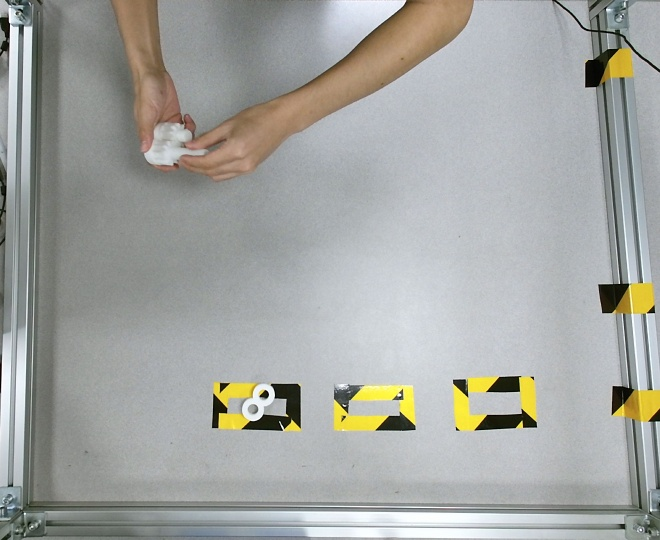stage_3: (143, 122, 209, 165)
